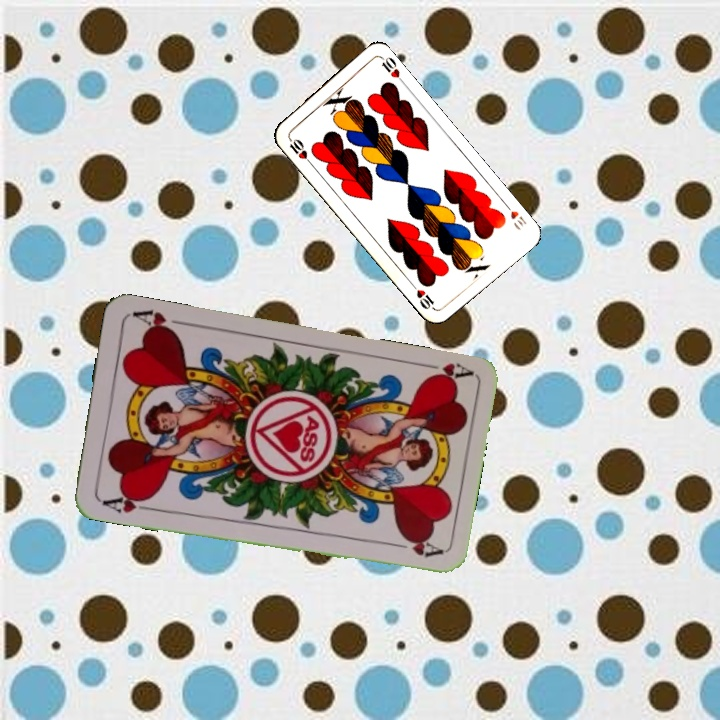H10: (284, 132, 314, 167), (500, 198, 529, 230)
HA: (414, 358, 473, 387), (95, 489, 154, 516)
